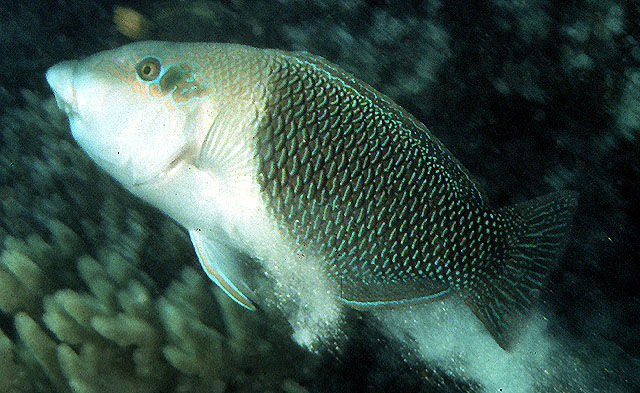fish: (45, 39, 579, 358)
